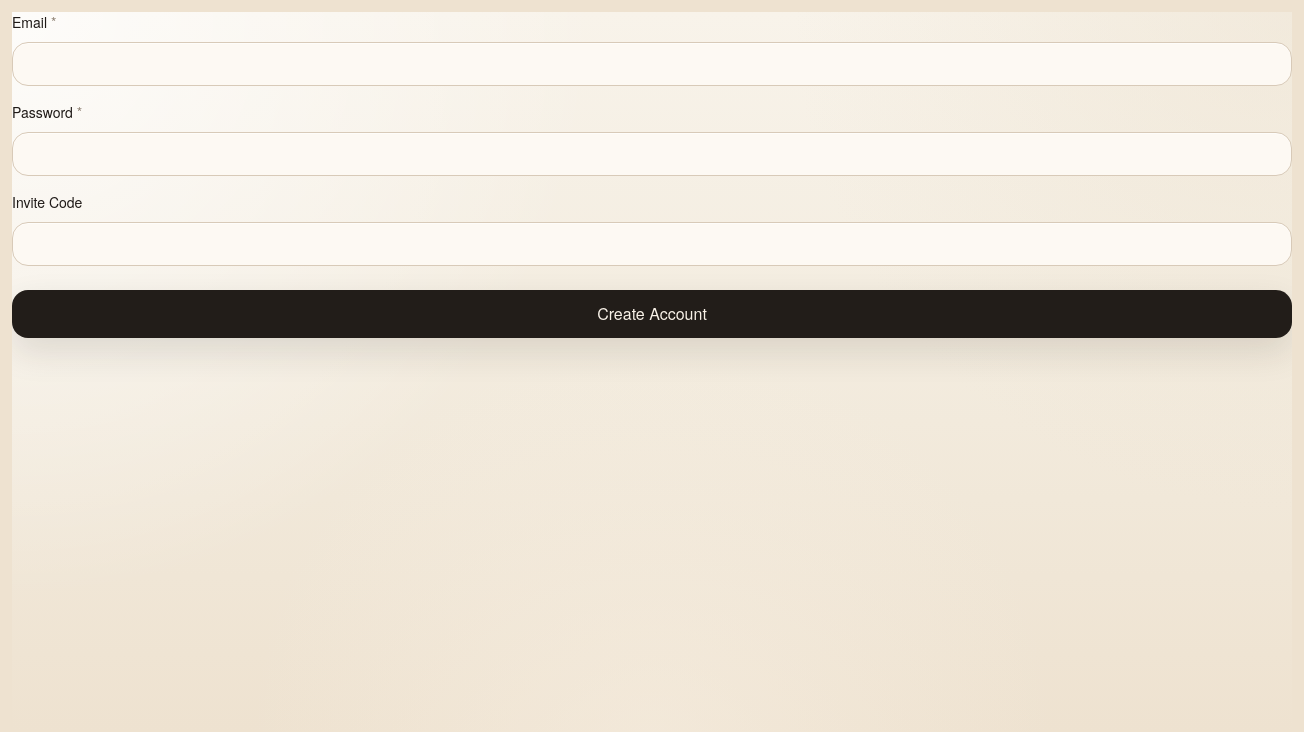
Test case: announces invite sign-up failures with an alert region
Step 1. Type "bot@example.com" into the field labelled "Email" → (652, 64), box [12,42,1292,86]
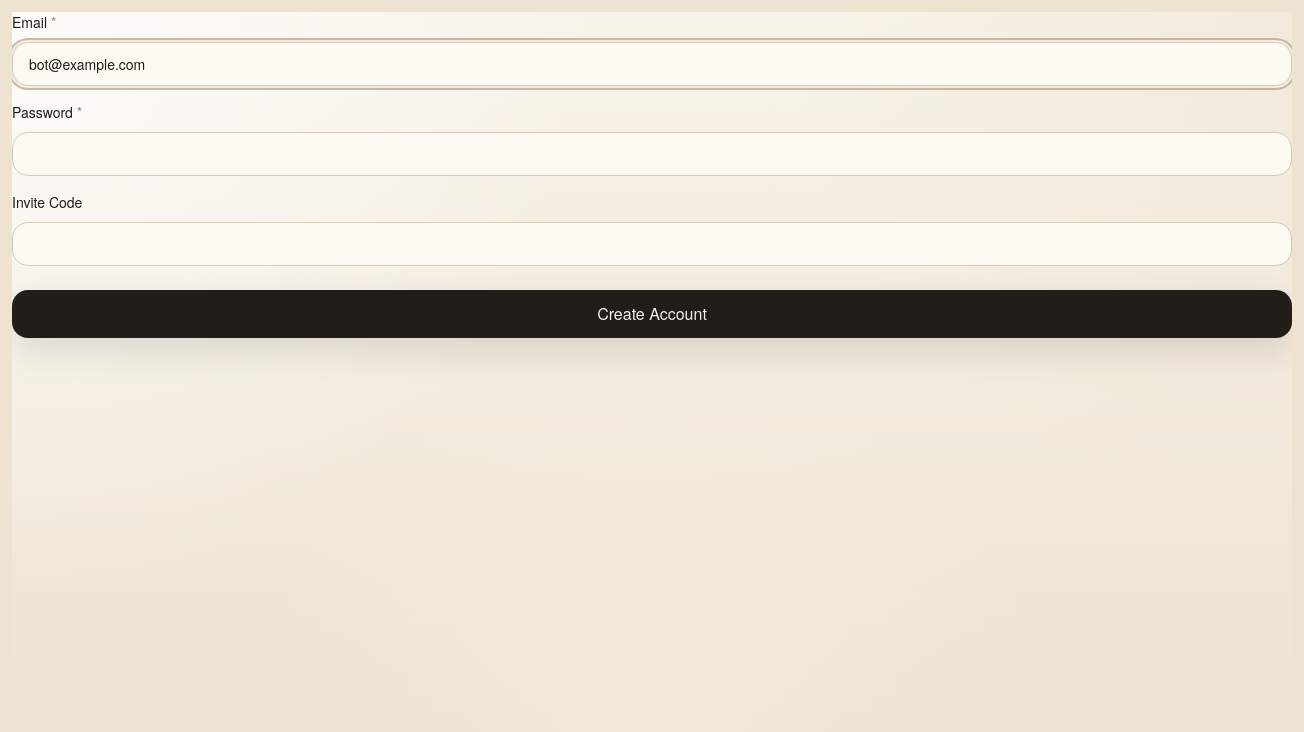
Step 2. Type "USED-CODE" into the field labelled "Invite Code" → (652, 244), box [12,222,1292,266]
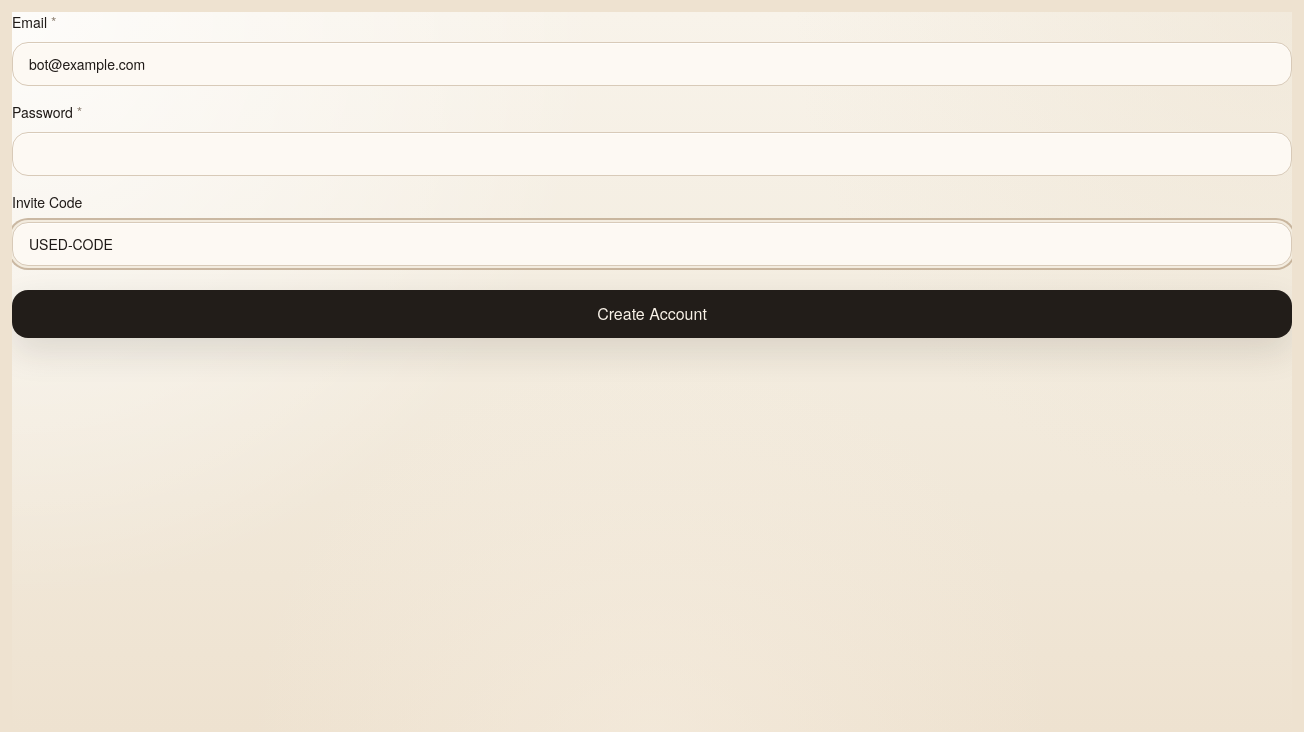
Step 3. Type "password123" into the password field labelled "Password" → (652, 154), box [12,132,1292,176]
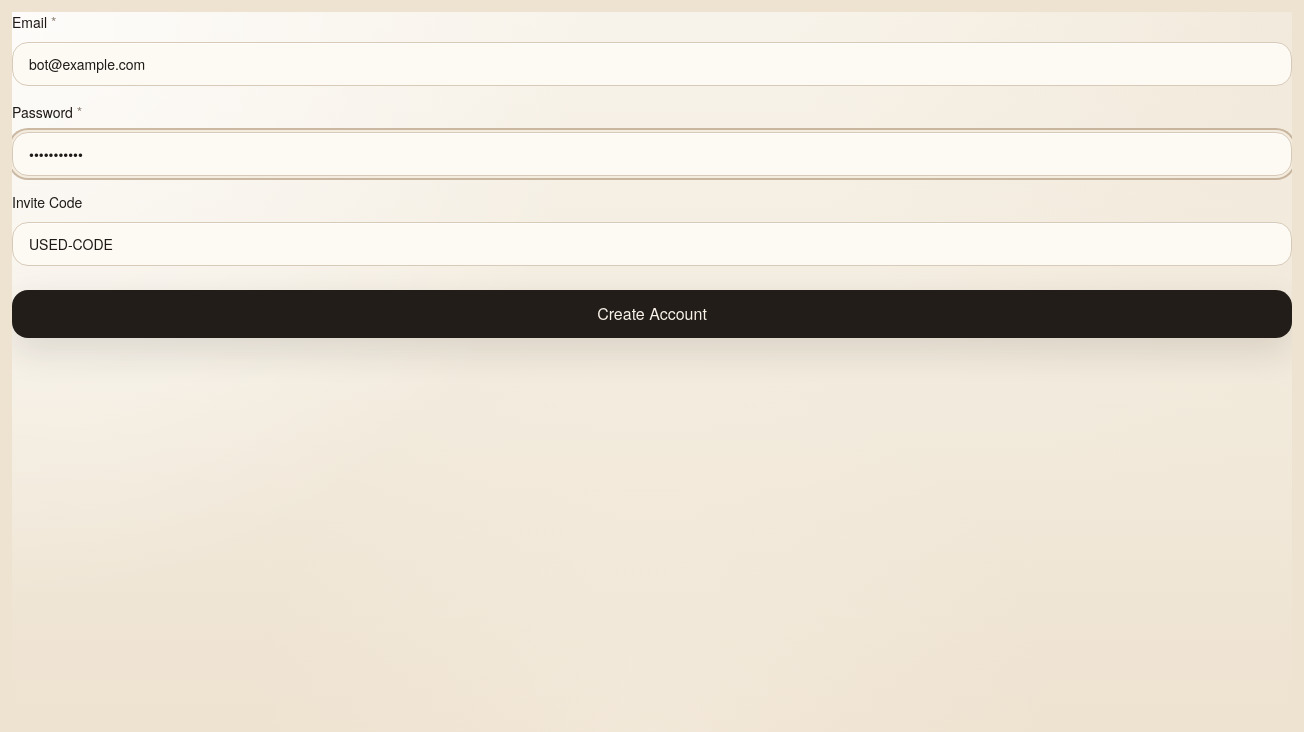
Step 4. Click the button "Create Account" → (652, 314), box [12,290,1292,338]
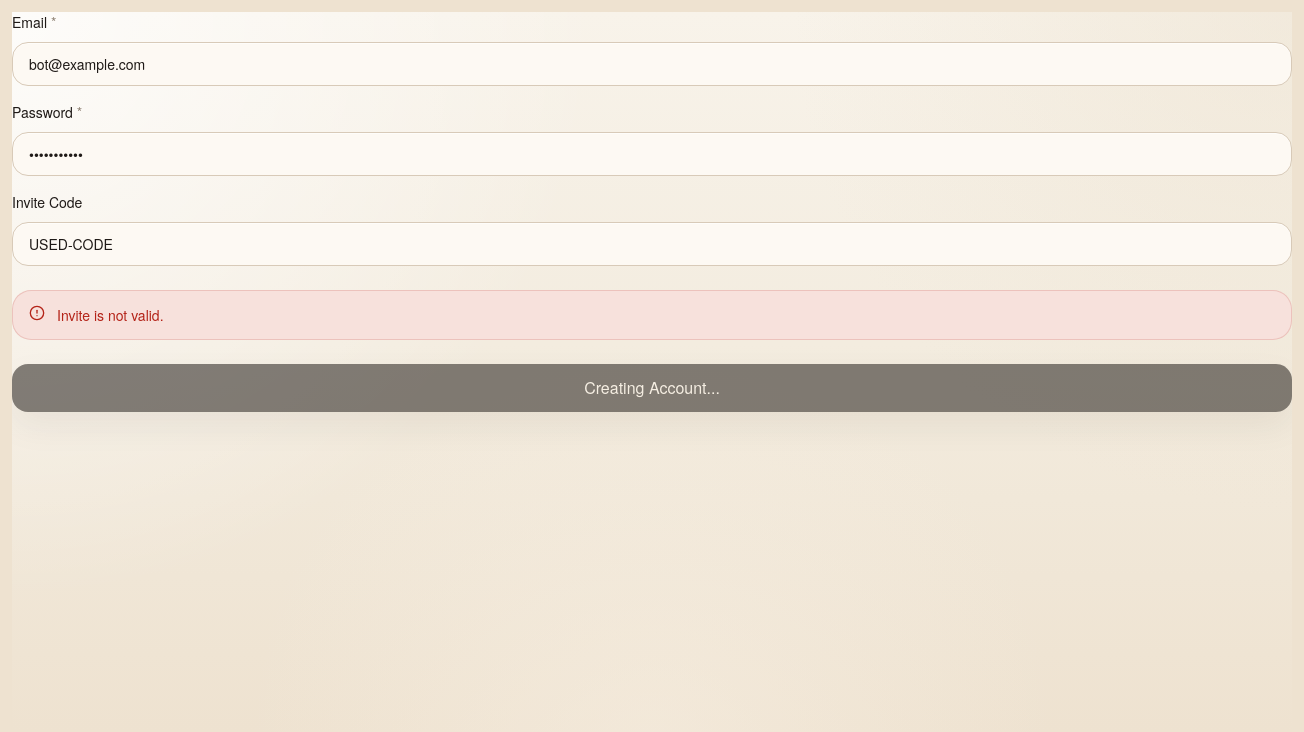
Expected: the message reads "Invite is not valid.", [57,305,164,325]
